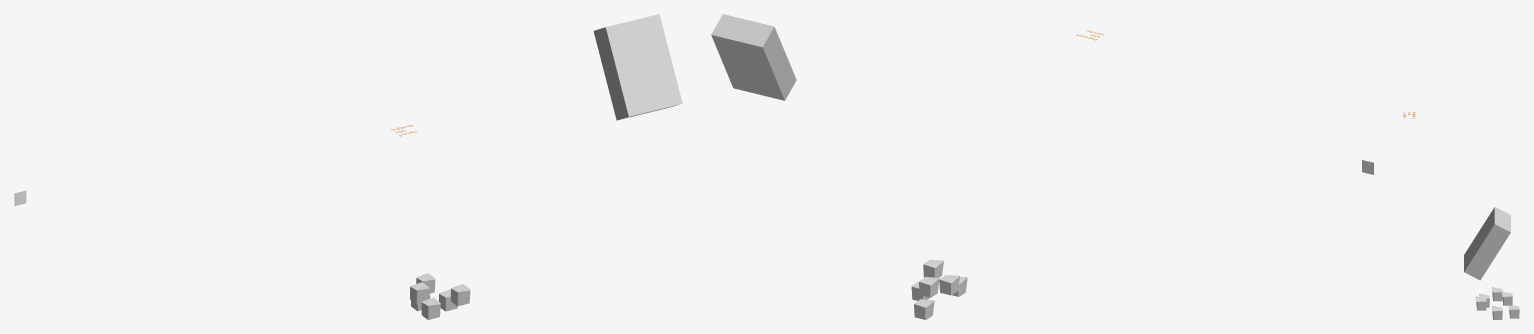
The model's file is untitled.330bfd5c.glb.
The picture shows the model from 3 angles, left to right: view 1: azimuth 30°, elevation 25°; view 2: azimuth 150°, elevation 25°; view 3: azimuth 270°, elevation 25°; orthographic projection. The views are drawn at different scales.
Visible parts, largest first — view 1: Cube.001, Cube; view 2: Cube, Cube.001; view 3: Cube.001, Cube, Cube.004, Cube.007, Cube.005, Cube.006, Cube.002.
Boxes of the visible parts, x1,y1,x2,y2 form: Cube.001: (599, 14, 682, 118); Cube: (593, 29, 673, 120); Cube: (711, 24, 790, 100); Cube.001: (717, 14, 796, 89); Cube.001: (1464, 207, 1502, 275); Cube: (1472, 211, 1510, 280); Cube.004: (1475, 296, 1486, 310); Cube.007: (1491, 287, 1502, 301); Cube.005: (1509, 305, 1519, 318); Cube.006: (1502, 291, 1512, 305); Cube.002: (1491, 305, 1502, 319).
Size of the model in its own units: 108 by 40.4 by 25.12.
3 materials, 1 textured.
